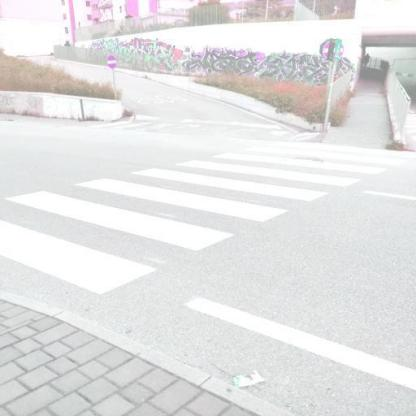crosswalk: (2, 173, 292, 256), (210, 140, 416, 168)
